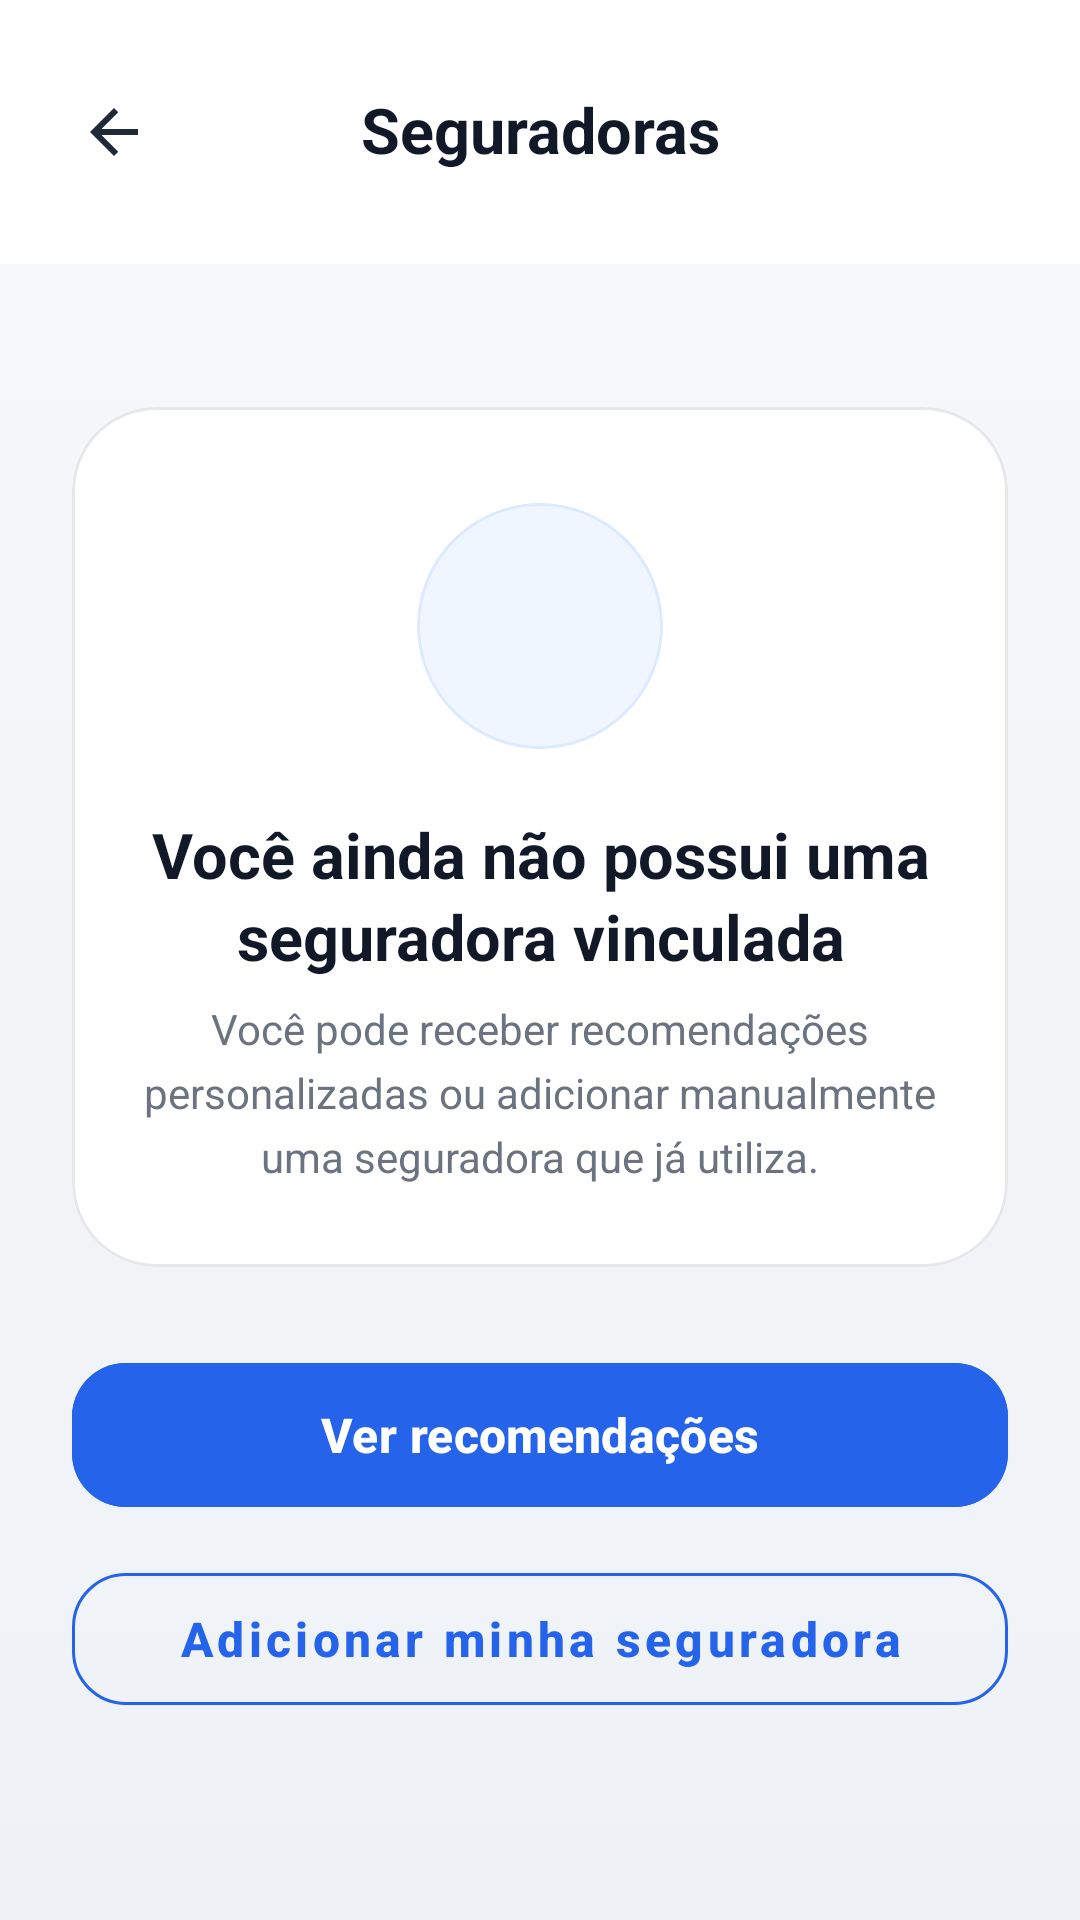

Icon bounding boxes for this 1080×1920 phone screenshot, format region(x1, y1, x2, y2):
Voltar: region(90, 108, 138, 156)
